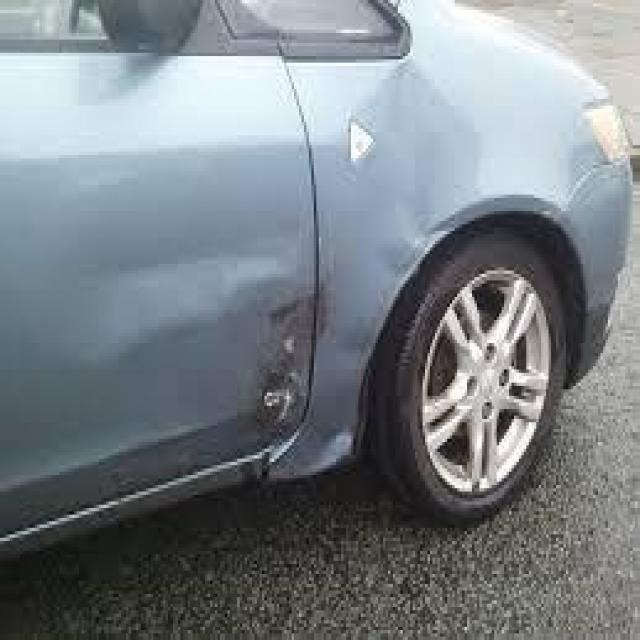damaged: (245, 280, 363, 466), (380, 221, 450, 264)
